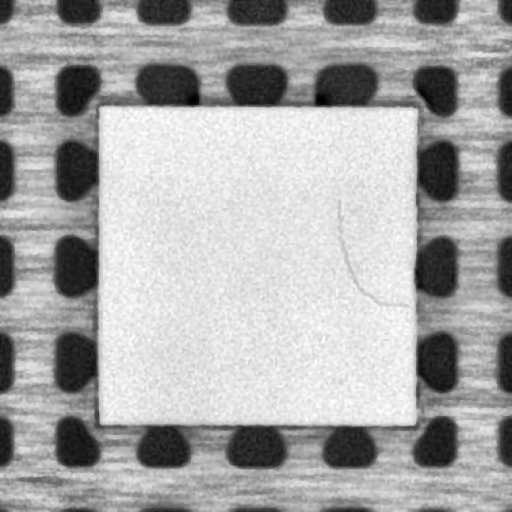DIE_CRACK: (335, 198, 413, 310)
